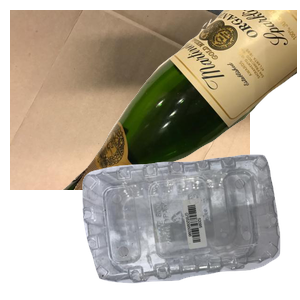cardboard: (10, 10, 250, 190)
glass: (60, 10, 300, 190)
plastic: (80, 152, 300, 300)
trash: (92, 174, 272, 300)
